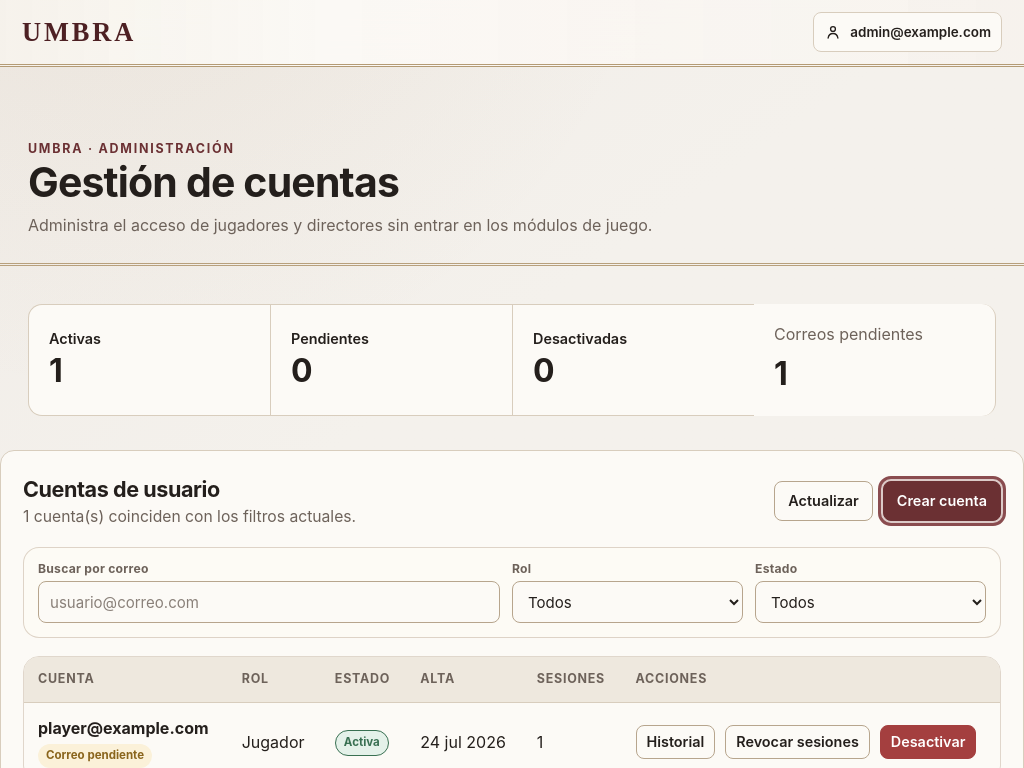
Test case: SuperAdminDashboardView › moves focus into dialogs and restores it when they close with Escape
Click the button "Crear cuenta". click: (942, 501)
box: [883, 481, 1001, 521]
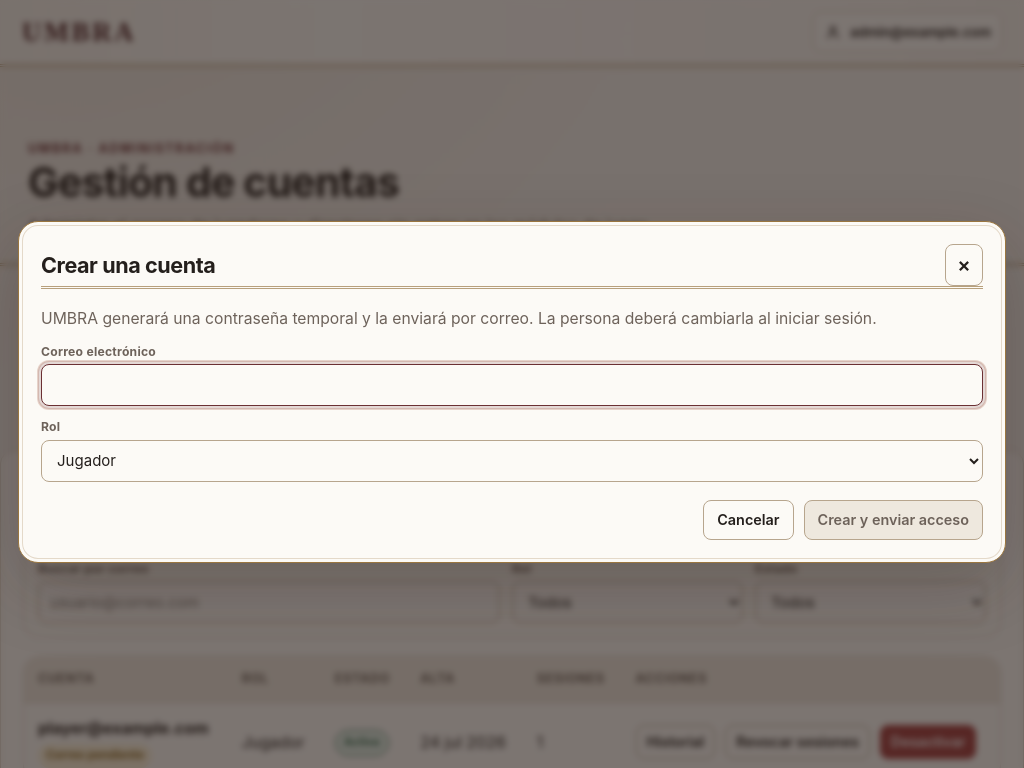
Press Escape
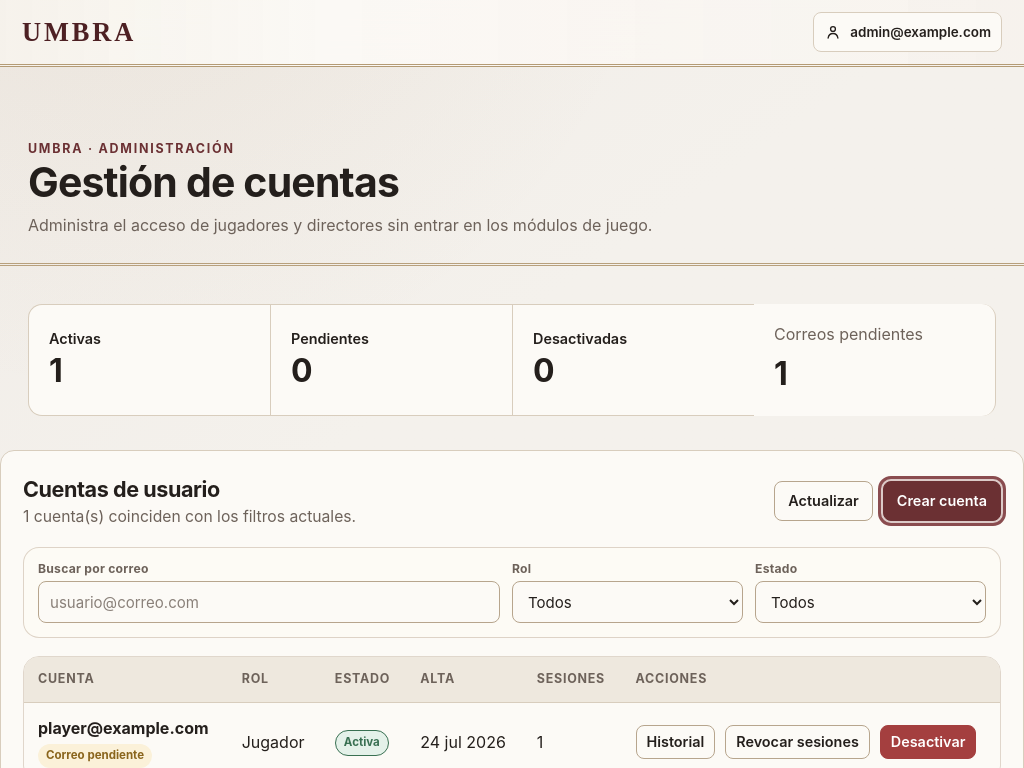
Expected: the heading "Crear una cuenta" is gone
